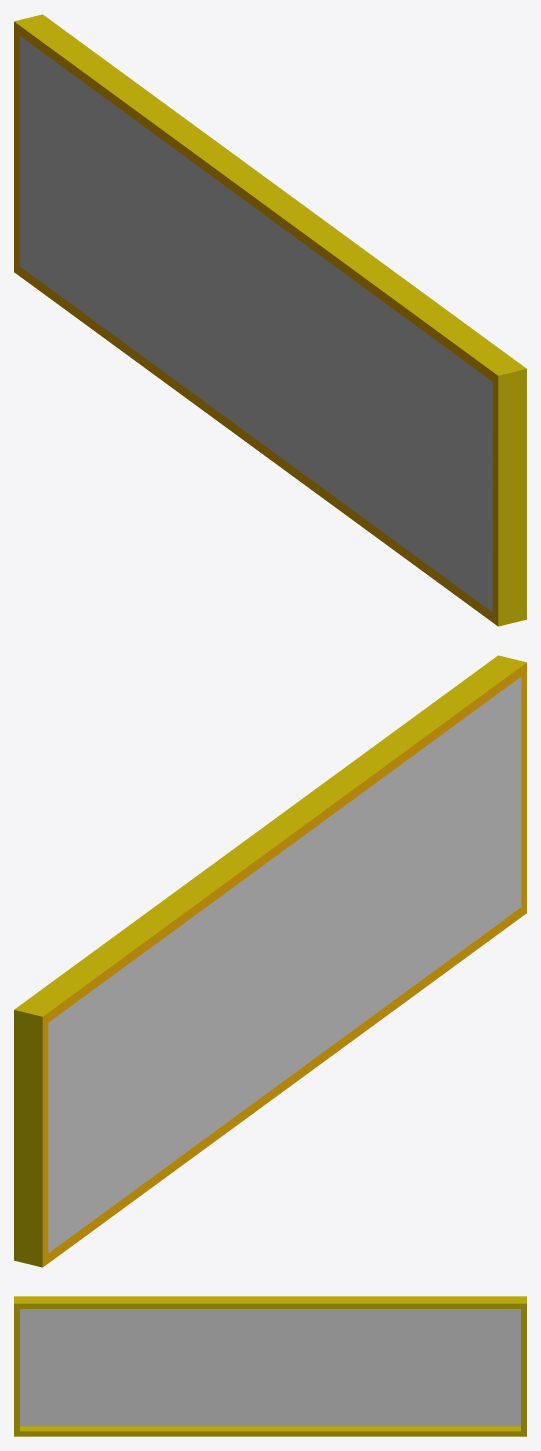
The model's file is window_7x2.dae.
3 views of the same model, one above another, from view 1: azimuth 30°, elevation 25°; view 2: azimuth 150°, elevation 25°; view 3: azimuth 270°, elevation 25° (orthographic). The views are drawn at different scales.
Visible parts, largest first — view 1: Cube; view 2: Cube; view 3: Cube.
Boxes of the visible parts, x1,y1,x2,y2 form: Cube: [14, 14, 526, 626]; Cube: [14, 655, 526, 1267]; Cube: [14, 1296, 526, 1436].
Size of the model in its own units: 0.06 by 1.75 by 0.5.
